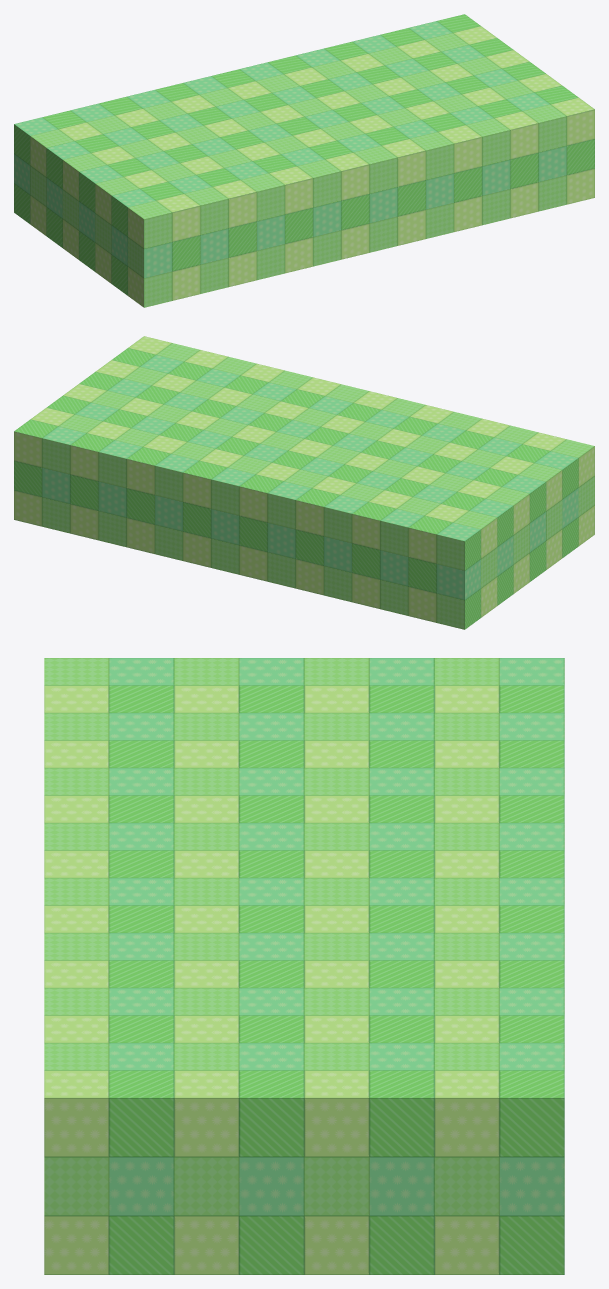
The model's file is platform_002.FBX.
3 views of the same model, one above another, from view 1: azimuth 30°, elevation 25°; view 2: azimuth 150°, elevation 25°; view 3: azimuth 270°, elevation 25° (orthographic). The views are drawn at different scales.
Parts seen in each view (by area): view 1: platform_002; view 2: platform_002; view 3: platform_002.
Boxes of the visible parts, x1,y1,x2,y2 form: platform_002: (14, 14, 594, 307); platform_002: (14, 336, 594, 629); platform_002: (44, 658, 564, 1274).
Bounding box in the file's own units: 1600 × 300 × 800.
